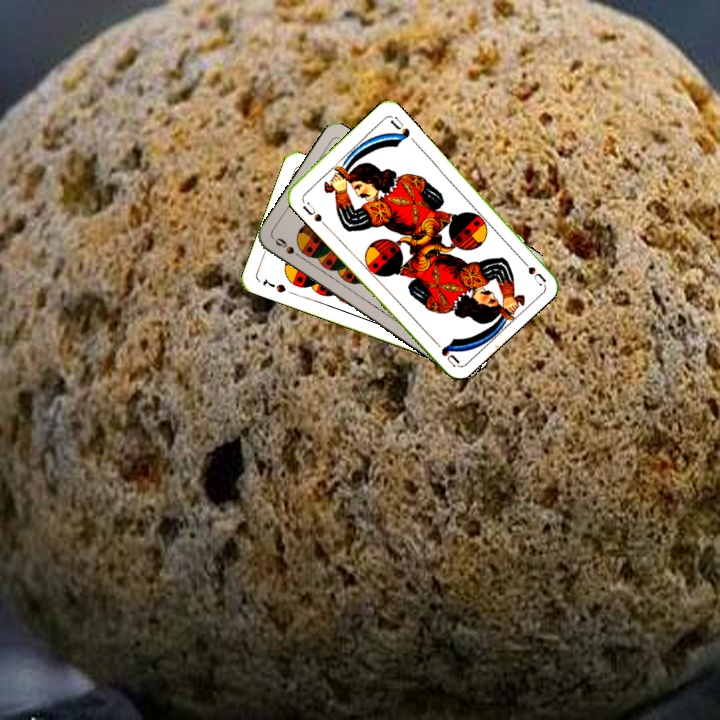S7: (259, 274, 289, 295)
S9: (271, 234, 306, 262)
SU: (515, 252, 548, 288), (299, 199, 325, 224)
